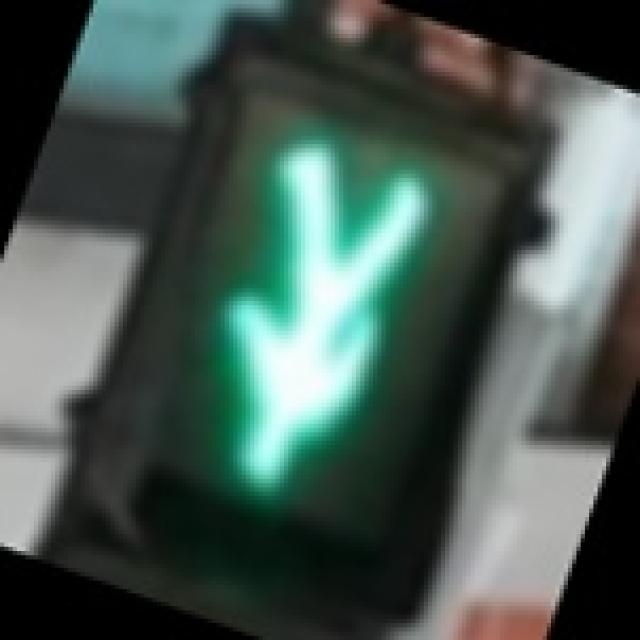green_light: (102, 64, 521, 564)
